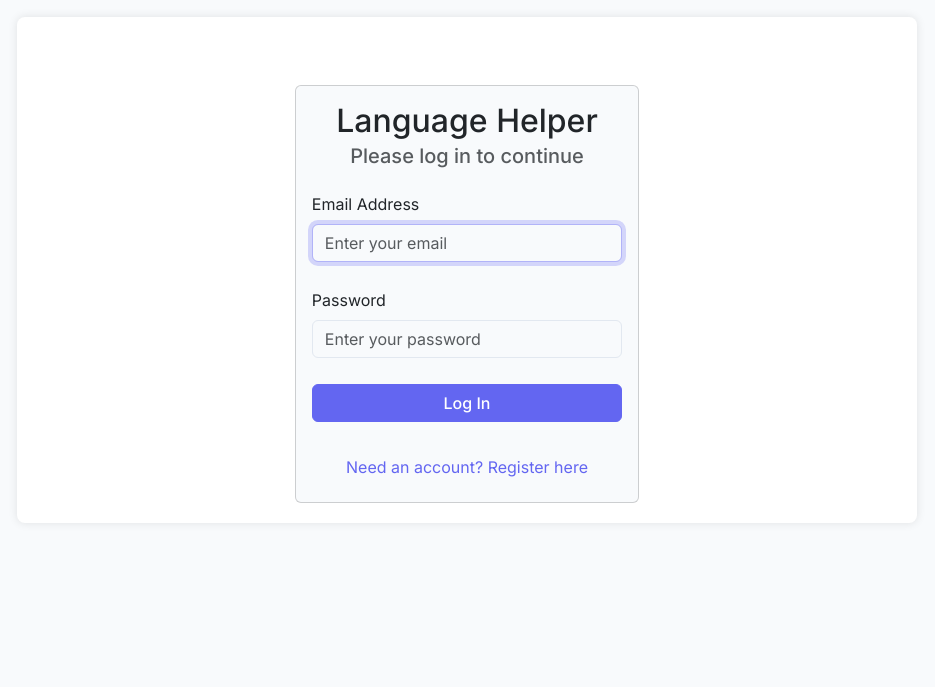
Test case: Login Component › should switch to registration mode
The width and height of the screenshot is (935, 687).
Expected: the heading "Please log in to continue" is shown, left=350, top=144, right=584, bottom=168
// Click register link
Click the button "Need an account? Register here" at (467, 467), box left=333, top=448, right=601, bottom=486
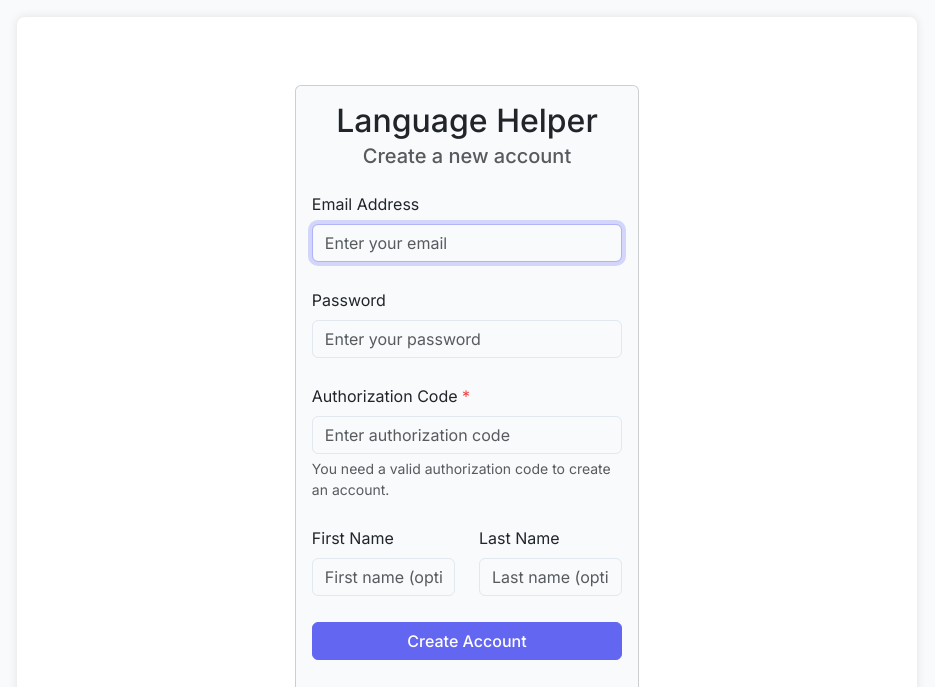
Now the heading "Create a new account" is shown, box left=363, top=144, right=571, bottom=168
Now the field labelled "Authorization Code *" is shown, box left=312, top=416, right=622, bottom=454
Now the field labelled "First Name" is shown, box left=312, top=558, right=455, bottom=596
